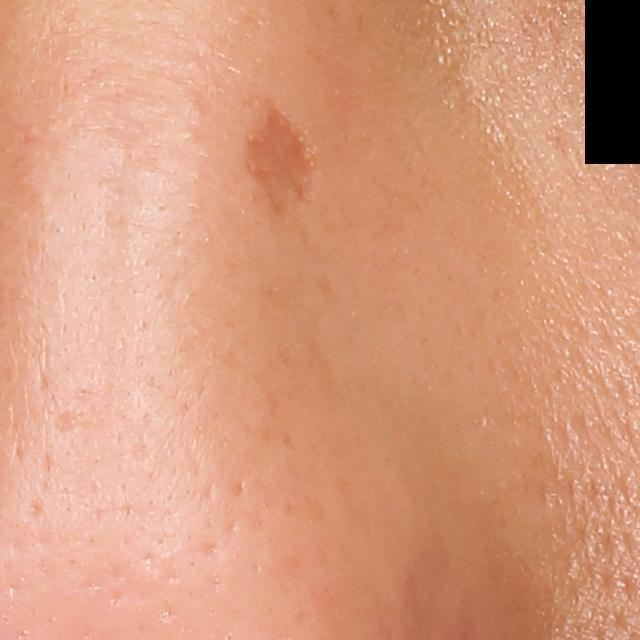atrophic_scar: (239, 110, 317, 230), (55, 408, 76, 439), (24, 498, 47, 525), (202, 540, 223, 561), (231, 478, 246, 496)
